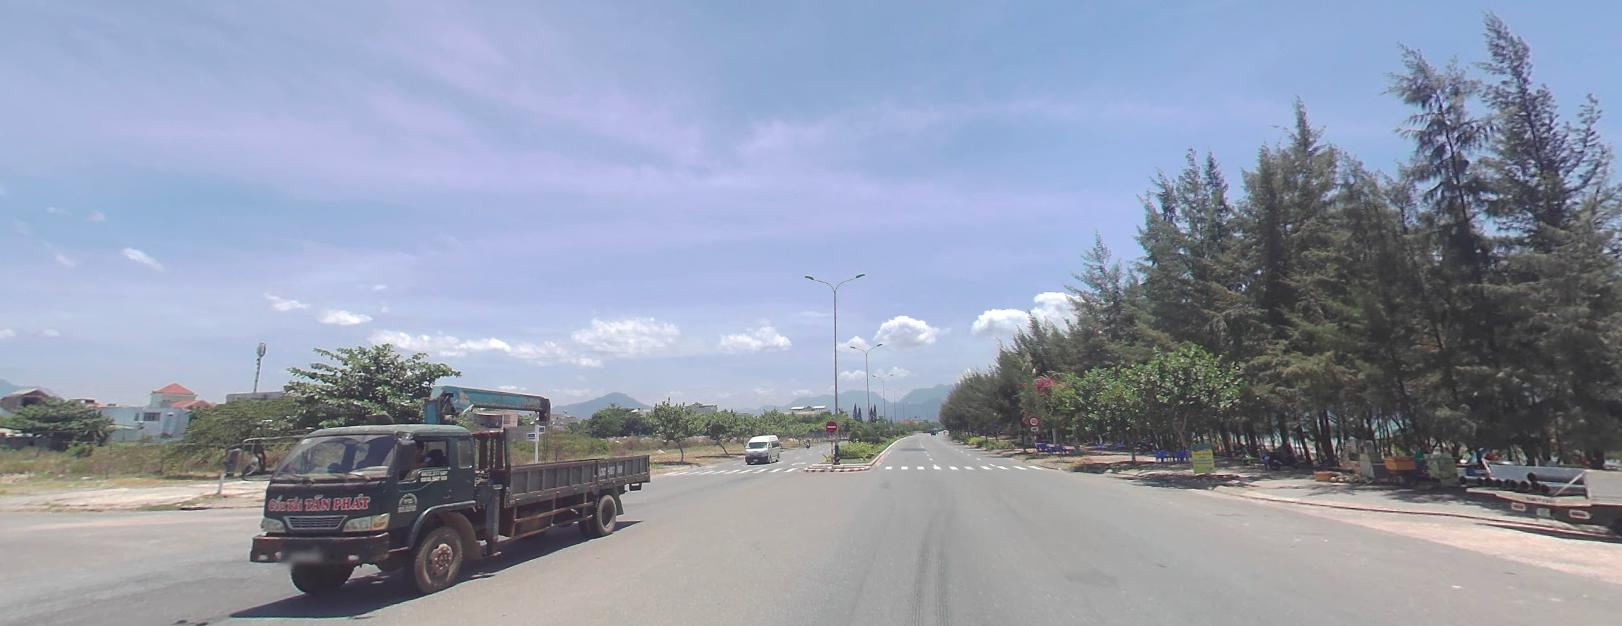Cam nguoc chieu: (825, 419, 836, 431)
Gioi han toc do: (1028, 414, 1038, 424)
